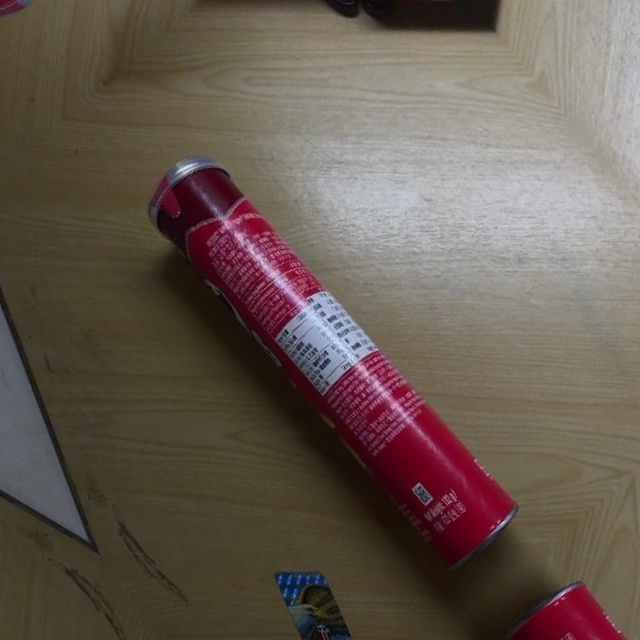Pringles: (130, 133, 528, 580)
